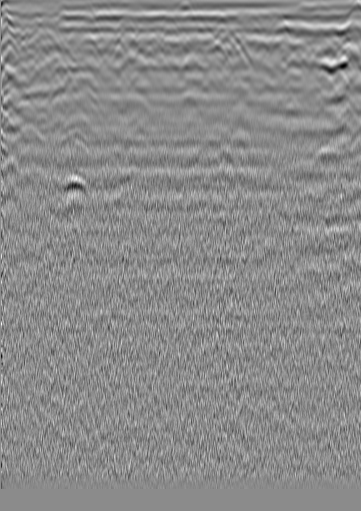가스: (111, 168, 143, 194)
상수: (317, 40, 337, 60)
우수: (183, 50, 203, 70)
